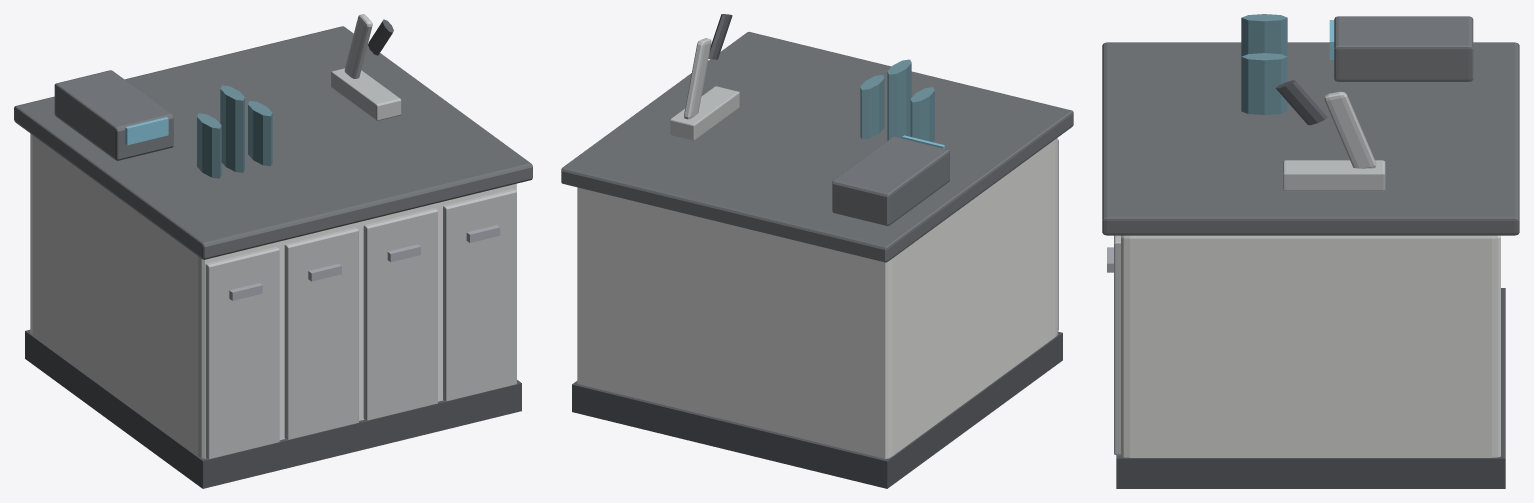
The model's file is prop_lab_bench.fbx.
3 renders of one model, left to right at view 1: azimuth 30°, elevation 25°; view 2: azimuth 150°, elevation 25°; view 3: azimuth 270°, elevation 25°, orthographic. The views are drawn at different scales.
Visible parts, largest first — view 1: prop_lab_bench; view 2: prop_lab_bench; view 3: prop_lab_bench.
Boxes of the visible parts, x1=… form: prop_lab_bench: x1=14, y1=14, x2=532, y2=488; prop_lab_bench: x1=561, y1=14, x2=1073, y2=488; prop_lab_bench: x1=1102, y1=14, x2=1519, y2=488.
Bounding box in the file's own units: 1 × 1 × 1.
